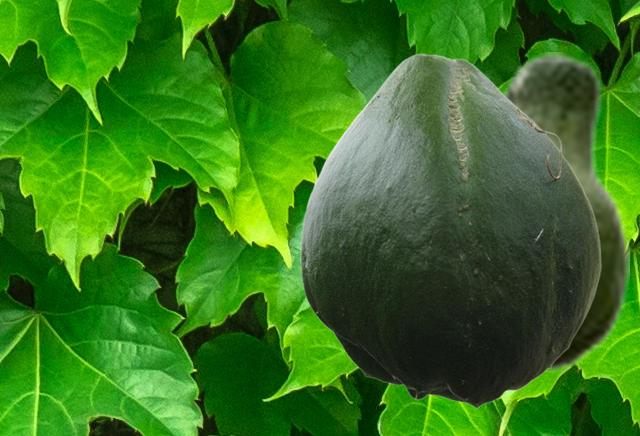sayote: (300, 53, 600, 408), (497, 52, 628, 372)
